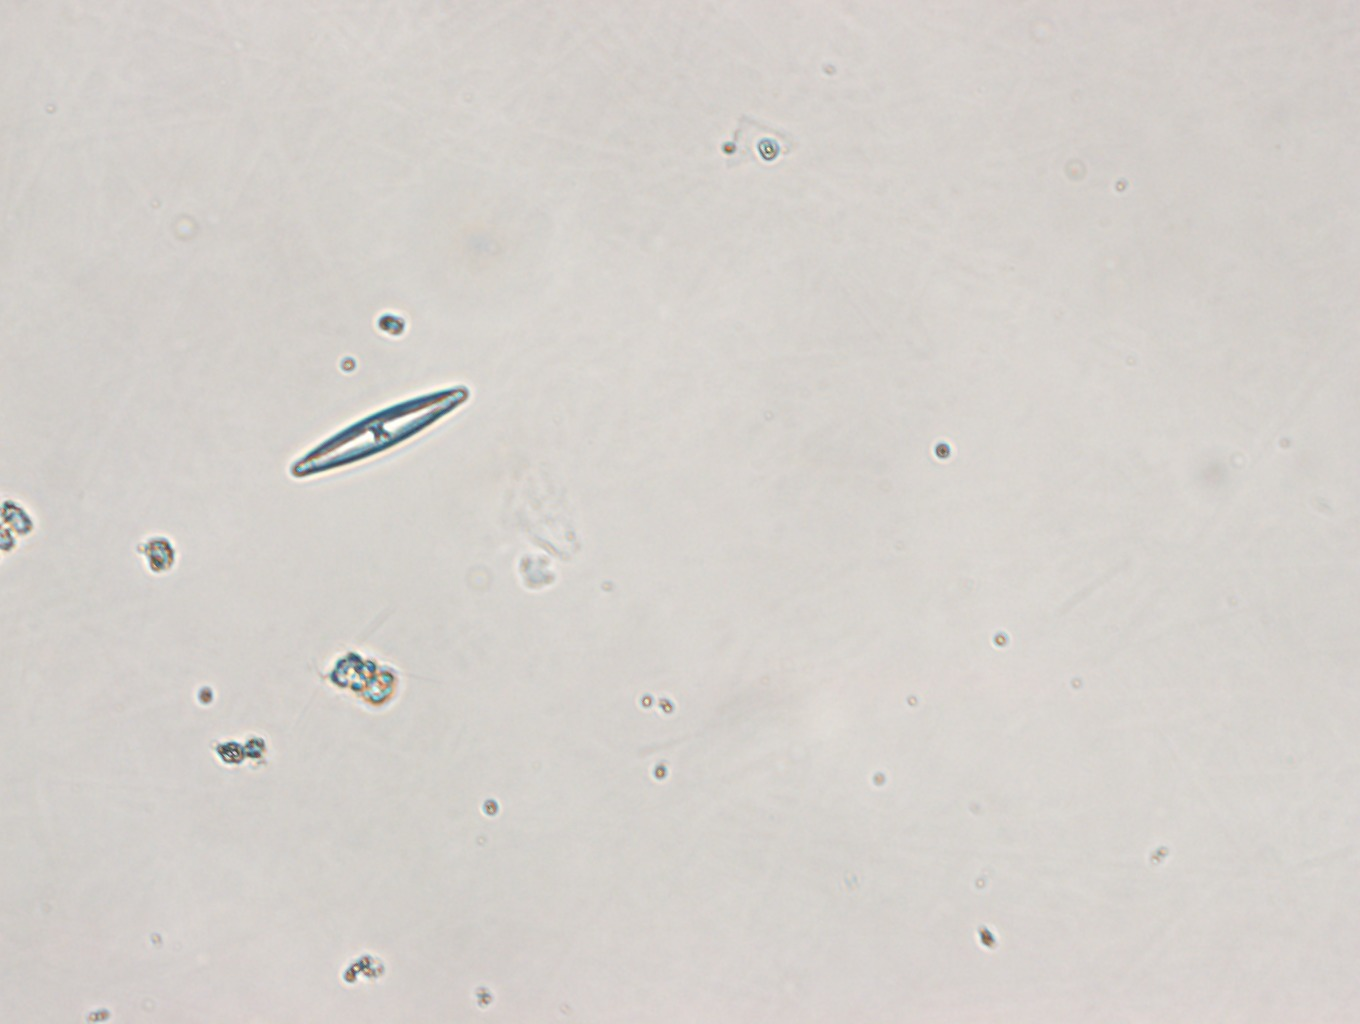navicula: (294, 379, 475, 490)
